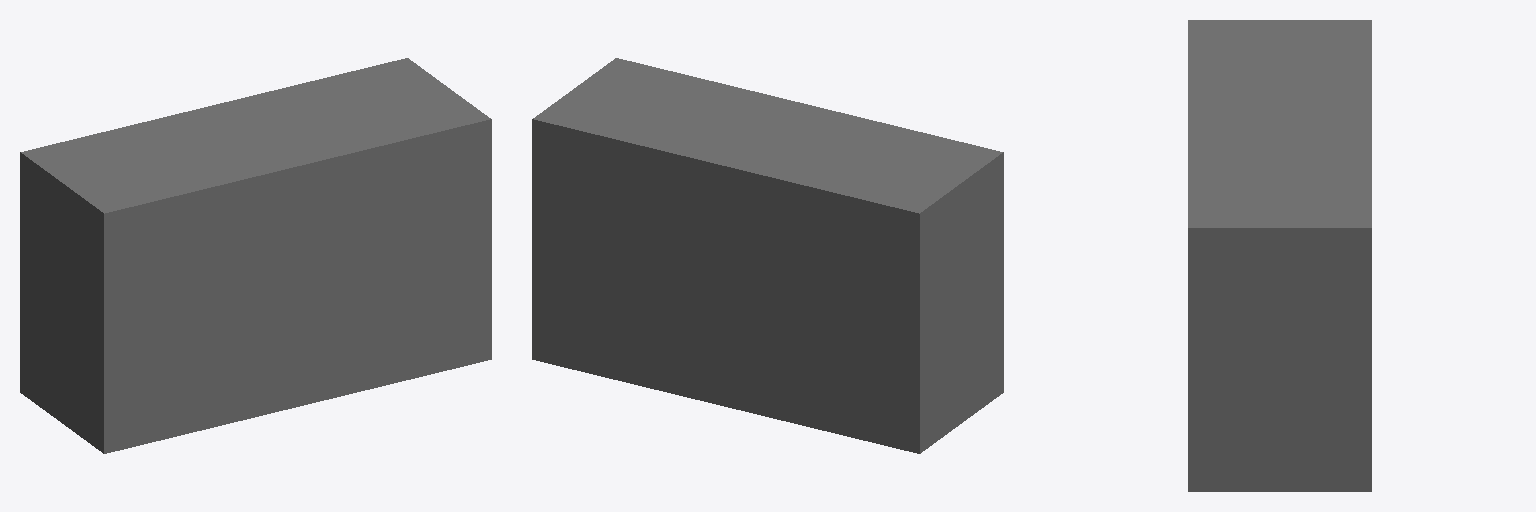
The robot description file, URDF, robot "box.urdf":
<?xml version="0.0" ?>
<robot name="box.urdf">
  <link name="baseLink">
    <contact>
      <lateral_friction value="0.5"/>
      <rolling_friction value="0.0"/>
      <contact_cfm value="0.0"/>
      <contact_erp value="1.0"/>
    </contact>
    <inertial>
      <origin rpy="0 0 0" xyz="0 0 0"/>
       <mass value=".01"/>
       <inertia ixx="1" ixy="0" ixz="0" iyy="1" iyz="0" izz="1"/>
    </inertial>
    <visual>
      <origin rpy="0 0 0" xyz="0 0 0"/>
      <geometry>
				<mesh filename="box.obj" scale="0.16 0.06 0.095"/>
      </geometry>
       <material name="white">
        <color rgba="0.5 0.5 0.5 1"/>
      </material>
    </visual>
    <collision>
      <origin rpy="0 0 0" xyz="0 0 0"/>
      <geometry>
	 	<box size="0.16 0.06 0.095"/>
      </geometry>
    </collision>
  </link>
</robot>

--- Facts derived from the render (not from the file) ---
The picture shows the robot from 3 angles, left to right: view 1: azimuth 30°, elevation 25°; view 2: azimuth 150°, elevation 25°; view 3: azimuth 270°, elevation 25°; orthographic projection.
Robot: box.urdf — 1 links, 0 joints (none); root link baseLink; default pose: all joints at 0.
Links seen in each view (by area): view 1: baseLink; view 2: baseLink; view 3: baseLink.
Link boxes in pixels (x1,y1,x2,y2): baseLink: (20,58,491,453); baseLink: (532,58,1003,453); baseLink: (1188,20,1371,491).
Bounding box of the posed robot: 0.16 × 0.06 × 0.095 m (x, y, z).
1 mesh visuals loaded from 1 distinct referenced files (1 OBJ).